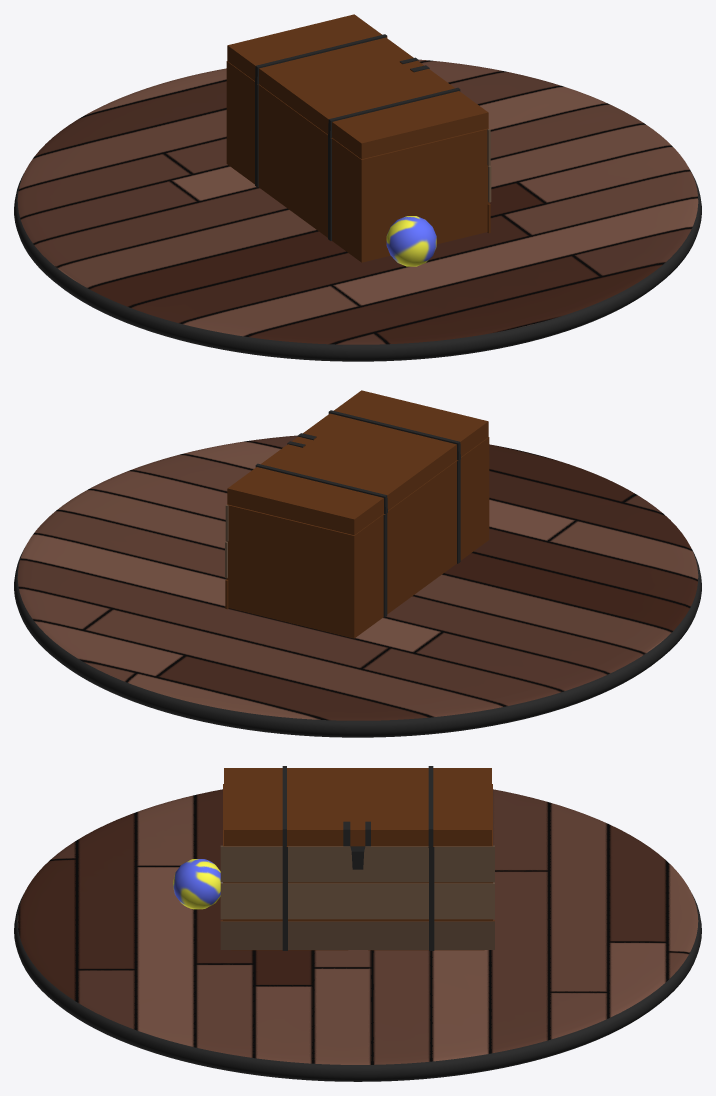
The model's file is blackChest.glb.
The picture shows the model from 3 angles, top to bottom: view 1: azimuth 30°, elevation 25°; view 2: azimuth 150°, elevation 25°; view 3: azimuth 270°, elevation 25°; orthographic projection.
Parts seen in each view (by area): view 1: Ground, Chest Down, Chest Up, Sphere; view 2: Ground, Chest Down, Chest Up; view 3: Ground, Chest Down, Chest Up, Sphere.
Part boxes in pixels (x1=…): Ground: x1=14, y1=59, x2=701, y2=361; Chest Down: x1=226, y1=61, x2=491, y2=262; Chest Up: x1=227, y1=14, x2=488, y2=159; Sphere: x1=386, y1=216, x2=436, y2=266; Ground: x1=14, y1=435, x2=701, y2=737; Chest Down: x1=225, y1=437, x2=489, y2=638; Chest Up: x1=227, y1=390, x2=488, y2=535; Ground: x1=14, y1=789, x2=701, y2=1081; Chest Down: x1=220, y1=784, x2=494, y2=950; Chest Up: x1=224, y1=766, x2=491, y2=869; Sphere: x1=173, y1=859, x2=222, y2=909.
Bounding box in the file's own units: 12.14 × 2.82 × 12.14.
10 materials, 3 textured.
